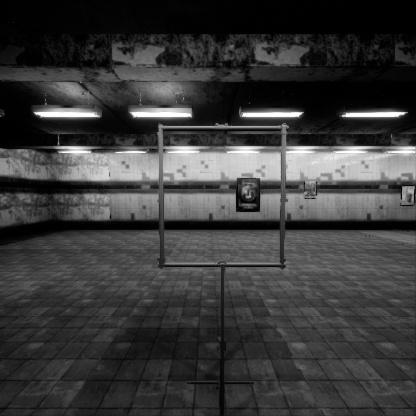gate: (158, 147, 300, 291)
